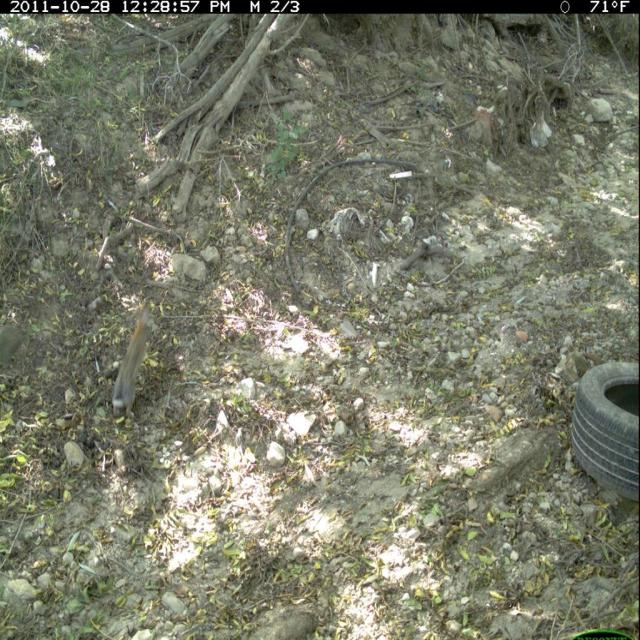rabbit: (103, 299, 169, 438)
